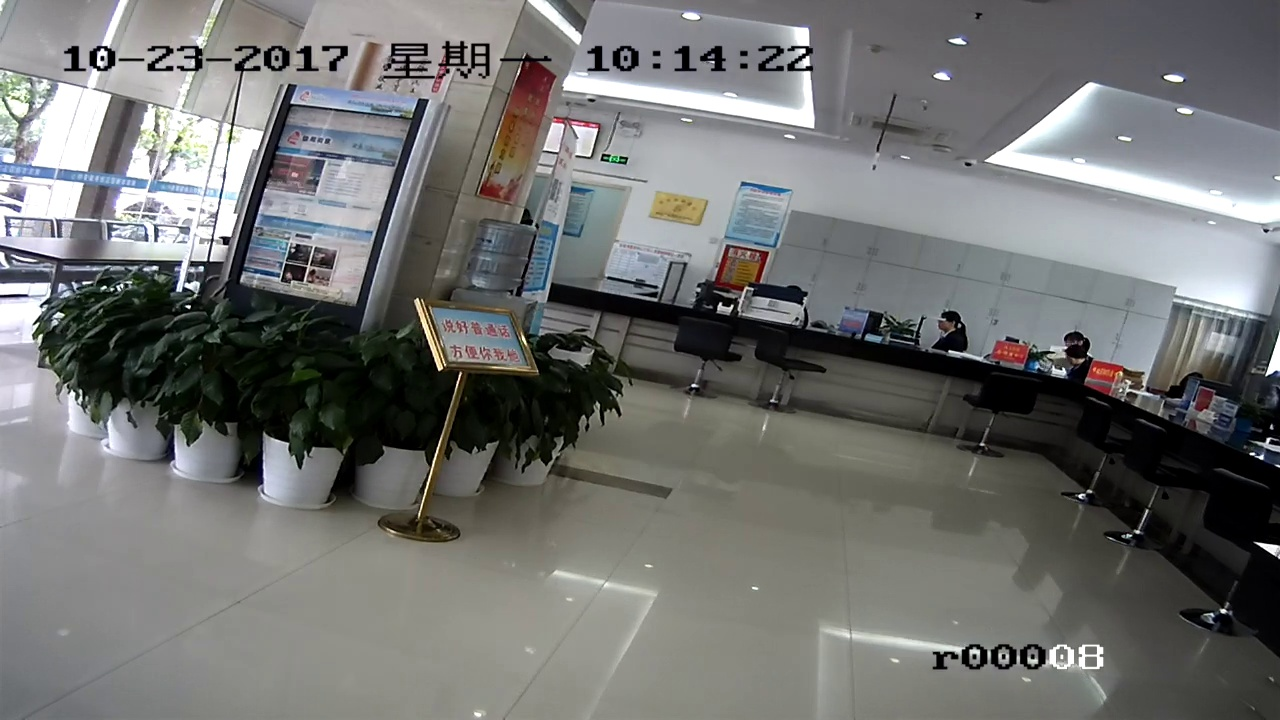billboard: (421, 303, 532, 376), (731, 181, 778, 245)
chair: (1209, 470, 1268, 649), (1128, 421, 1190, 567), (973, 373, 1039, 469), (1065, 403, 1119, 519), (673, 315, 732, 406), (757, 332, 804, 420)
person: (935, 305, 963, 355), (1061, 323, 1084, 380)
pot: (137, 296, 215, 472), (267, 328, 343, 508), (68, 271, 119, 429)
